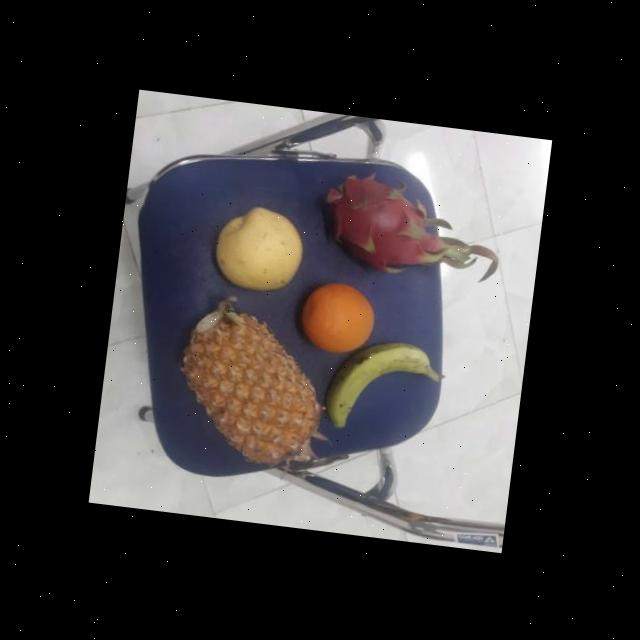banana: (316, 332, 443, 452)
orange: (295, 276, 378, 360)
pear: (208, 202, 310, 296)
pineapple: (171, 298, 331, 472)
pitaya: (313, 169, 443, 281)
